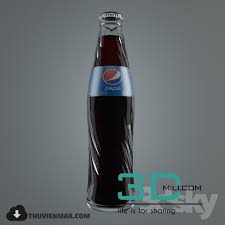pepsi: (101, 68, 125, 85)
